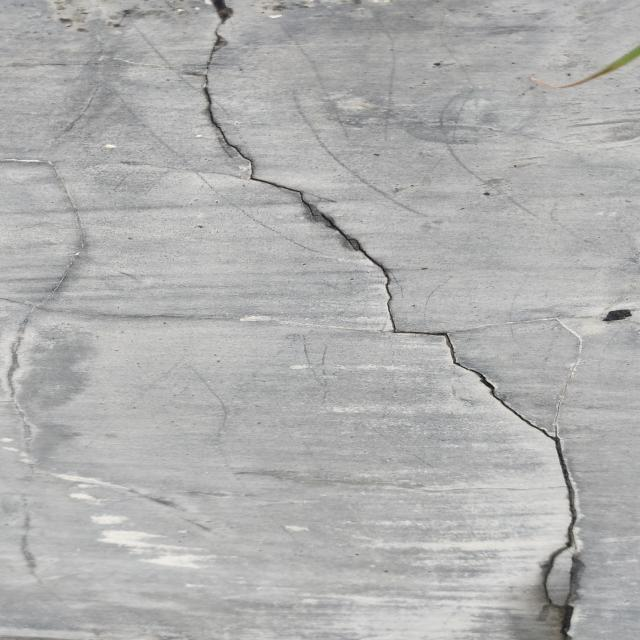Crack: (192, 0, 594, 638)
